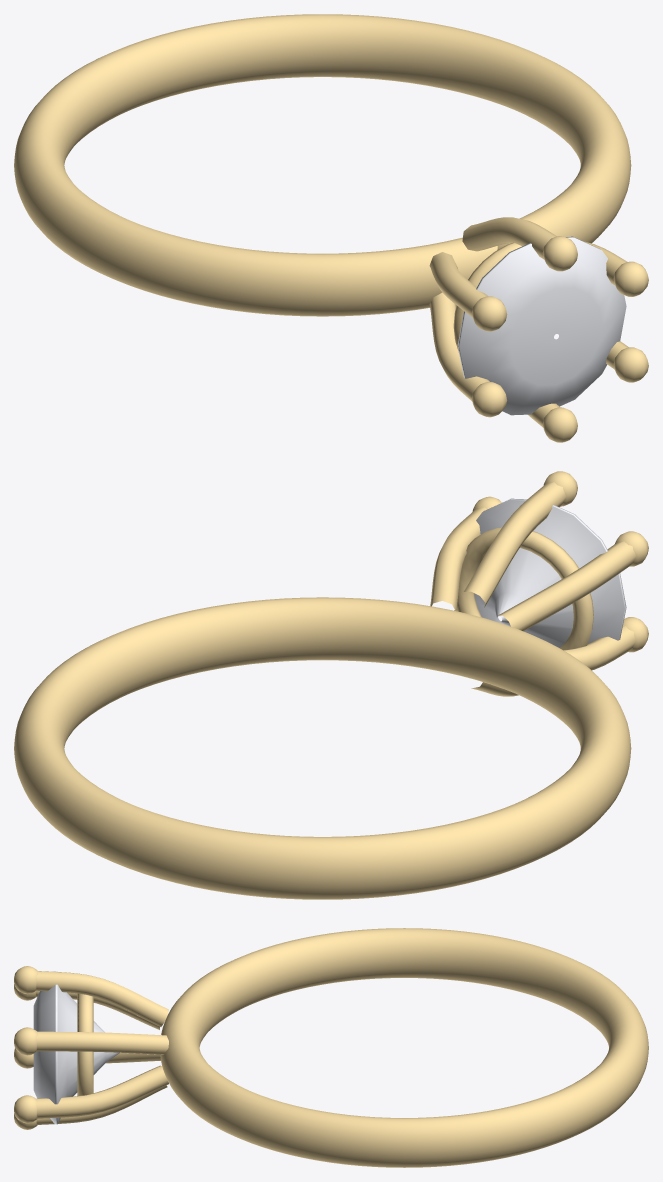
File: ring-solitaire.glb
3 views of the same model, one above another, from view 1: azimuth 30°, elevation 25°; view 2: azimuth 150°, elevation 25°; view 3: azimuth 270°, elevation 25° (orthographic). The views are drawn at different scales.
Parts seen in each view (by area): view 1: band, stone, setting; view 2: band, setting, stone; view 3: band, setting, stone.
Boxes of the visible parts, x1,y1,x2,y2 form: band: (14, 14, 631, 316); stone: (457, 236, 626, 415); setting: (429, 217, 648, 442); band: (14, 597, 631, 899); setting: (430, 471, 648, 696); stone: (474, 498, 626, 647); band: (160, 928, 648, 1167); setting: (14, 966, 168, 1129); stone: (33, 971, 119, 1124).
Size of the model in its own units: 0.0208 by 0.00757 by 0.027.
